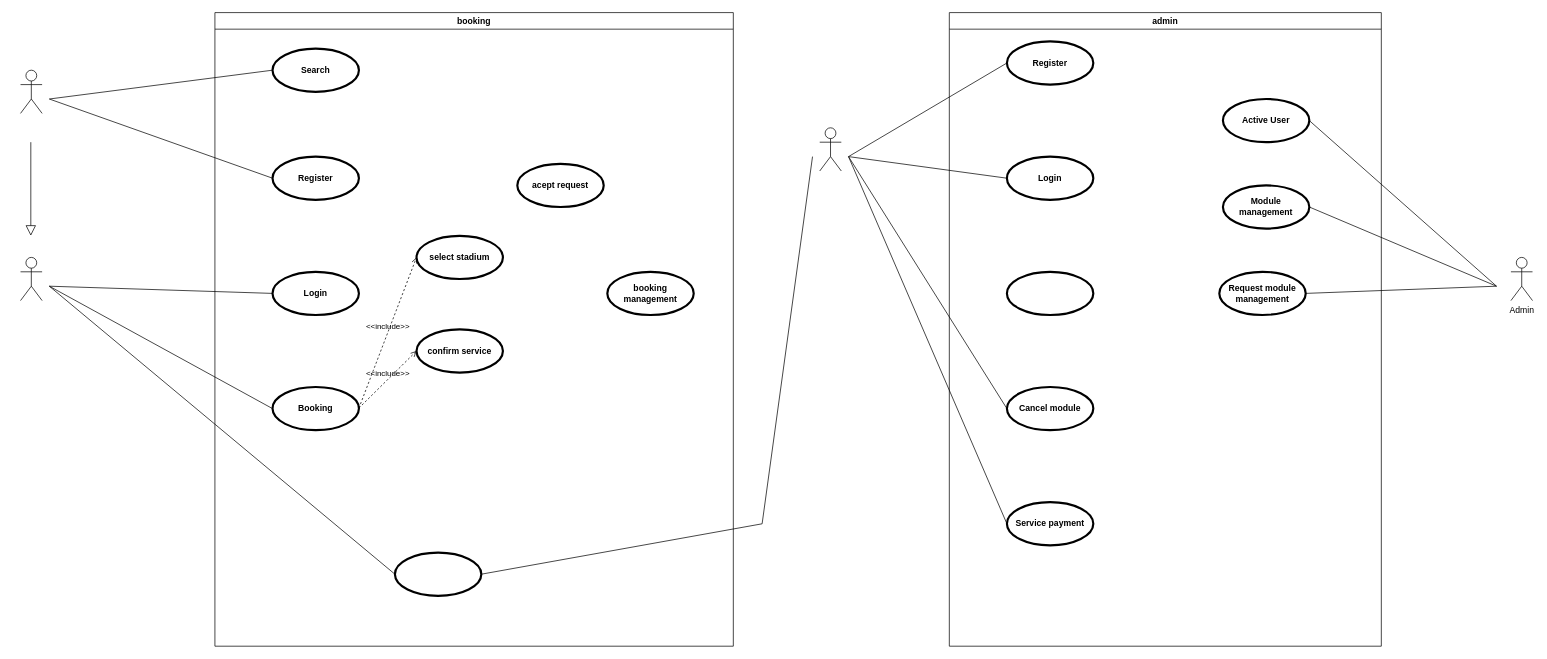
Some shapes in this 1547 by 659 pixel diagram are drawn without their labels. Here are the shapes that lost their labels. From the top down, the box of each, then its label:
(20, 69, 42, 113): Guest
(819, 127, 841, 171): Client
(20, 257, 42, 301): Customer
(1005, 270, 1094, 316): Register module
(393, 551, 482, 597): Chat
